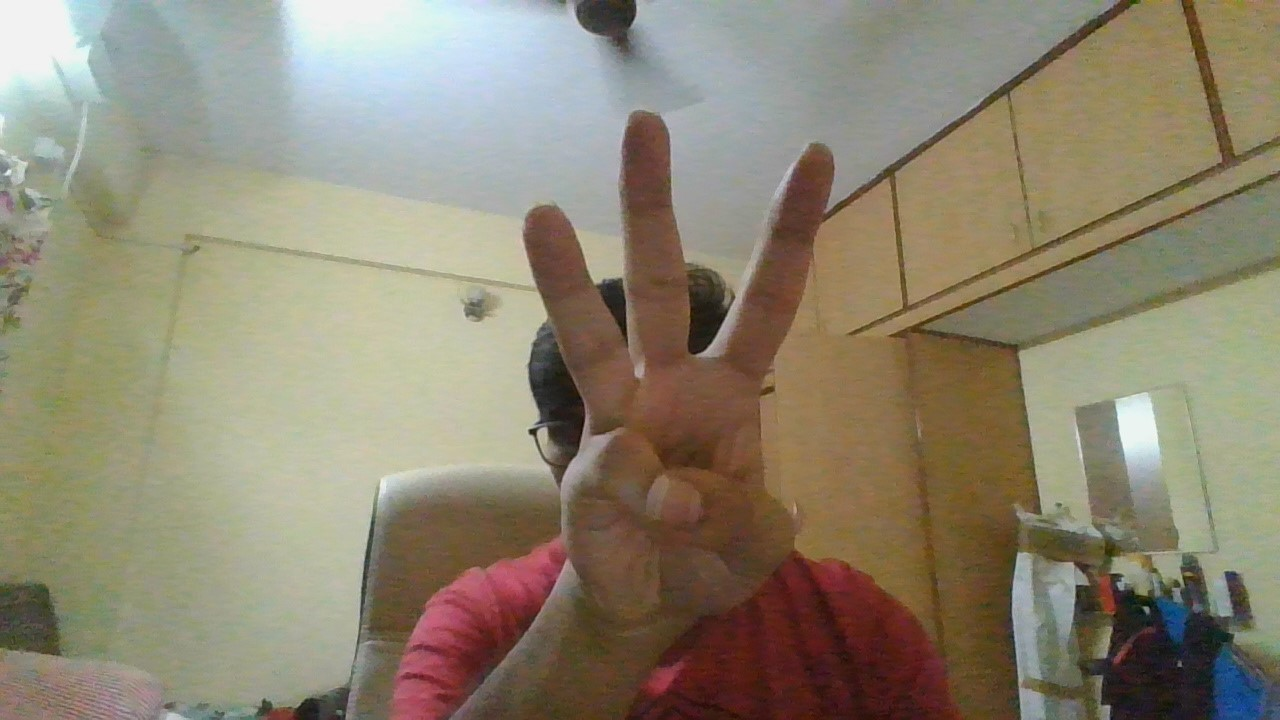w: (513, 102, 842, 644)
